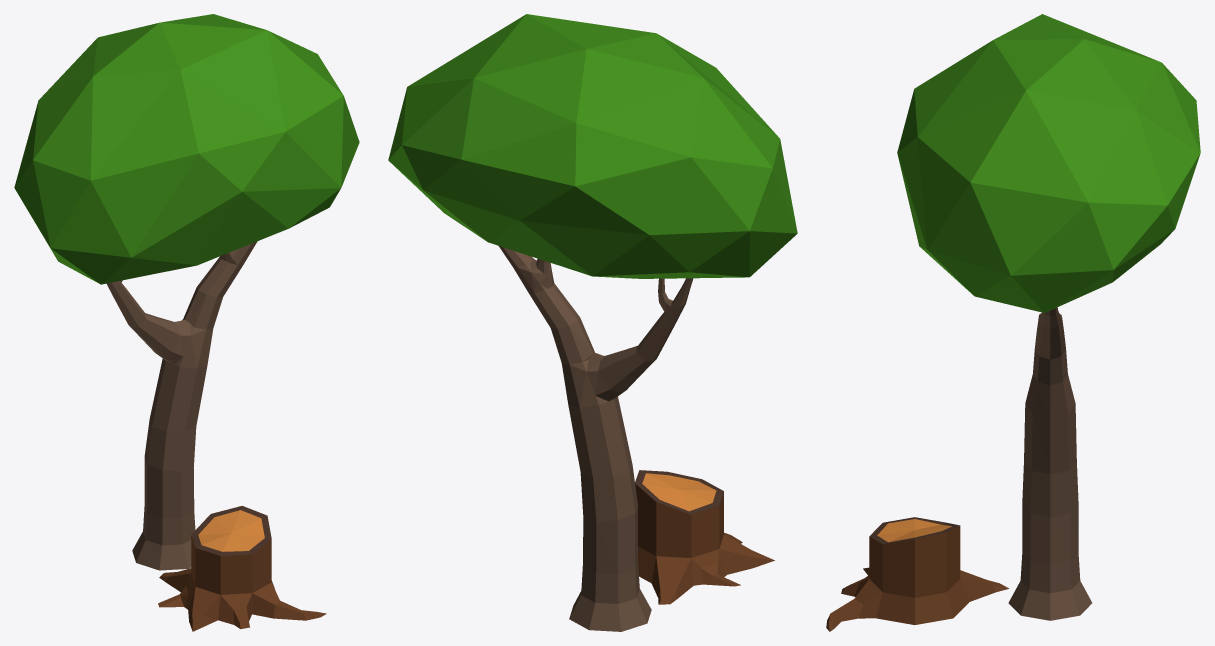
File: cylinderTrädmedStubbe_V1.fbx
3 renders of one model, left to right at view 1: azimuth 30°, elevation 25°; view 2: azimuth 150°, elevation 25°; view 3: azimuth 270°, elevation 25°, orthographic. The views are drawn at different scales.
Visible parts, largest first — view 1: Träd1, Stubbe; view 2: Träd1, Stubbe; view 3: Träd1, Stubbe.
Boxes of the visible parts, x1,y1,x2,y2 form: Träd1: [14, 14, 359, 570]; Stubbe: [158, 506, 326, 631]; Träd1: [388, 14, 797, 631]; Stubbe: [635, 470, 774, 604]; Träd1: [897, 14, 1200, 620]; Stubbe: [826, 517, 1009, 631].
Bounding box in the file's own units: 877 × 1378 × 824.
2 materials, 2 textured.
